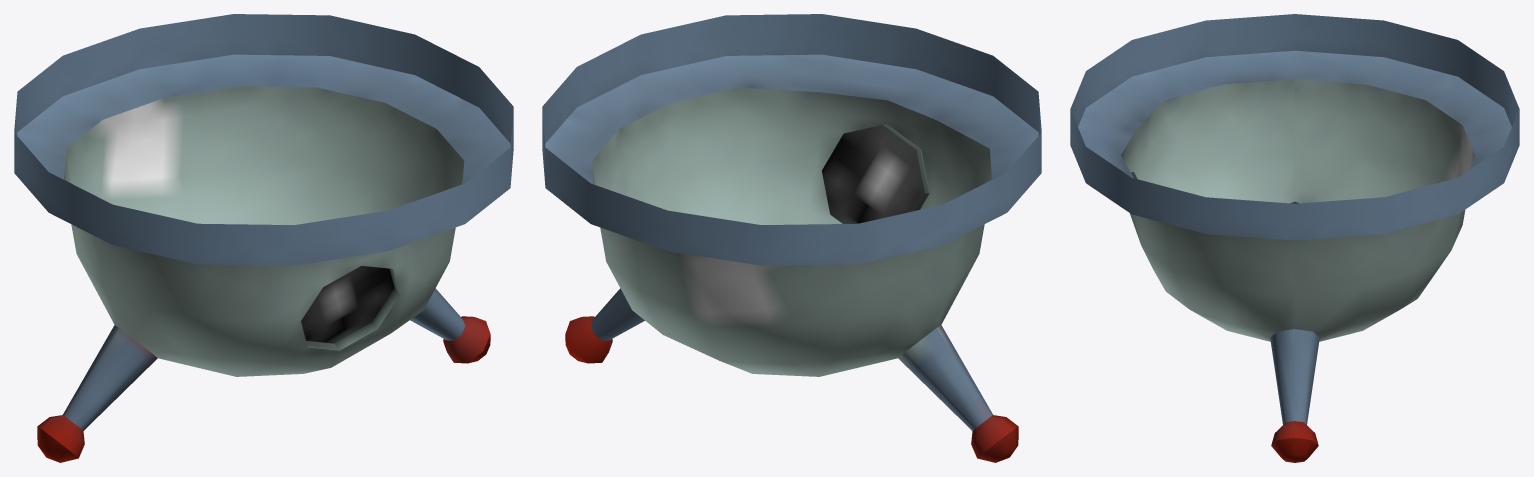
The model's file is PROP_065_Camera.fbx.
3 renders of one model, left to right at view 1: azimuth 30°, elevation 25°; view 2: azimuth 150°, elevation 25°; view 3: azimuth 270°, elevation 25°, orthographic. The views are drawn at different scales.
Visible parts, largest first — view 1: Cube.013; view 2: Cube.013; view 3: Cube.013.
Boxes of the visible parts, left/top/right/bottom form: Cube.013: left=14, top=14, right=513, bottom=462; Cube.013: left=542, top=14, right=1041, bottom=462; Cube.013: left=1070, top=14, right=1519, bottom=462.
Size of the model in its own units: 0.2014 by 0.1252 by 0.1936.
1 material, 1 textured.
